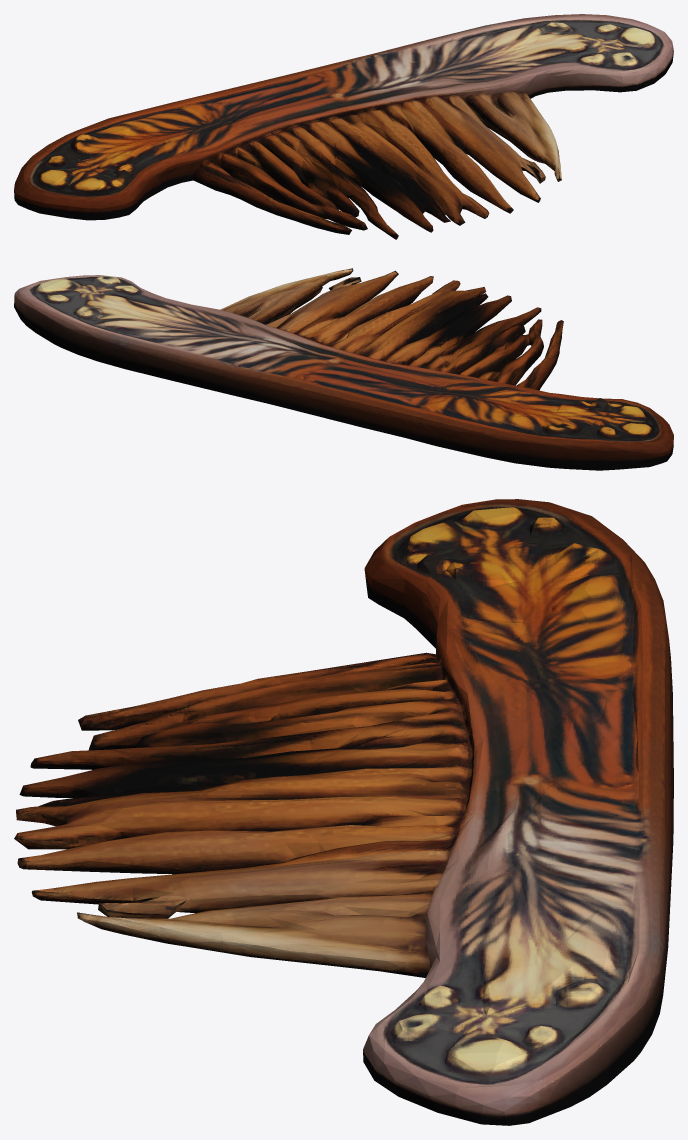
The model's file is wooden-comb-art-deco.jpeg.glb.
3 renders of one model, top to bottom at view 1: azimuth 30°, elevation 25°; view 2: azimuth 150°, elevation 25°; view 3: azimuth 270°, elevation 25°, orthographic. The views are drawn at different scales.
Visible parts, largest first — view 1: world; view 2: world; view 3: world.
Boxes of the visible parts, left/top/right/bottom form: world: left=14, top=14, right=673, bottom=239; world: left=14, top=268, right=673, bottom=470; world: left=14, top=499, right=673, bottom=1125.
Size of the model in its own units: 0.9997 by 0.0515 by 0.464.
1 material, 1 textured.
